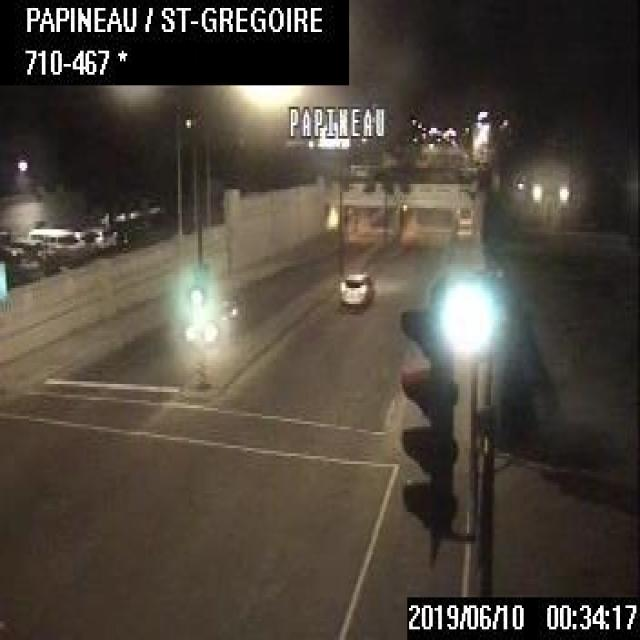vehicle: (182, 294, 240, 342), (25, 224, 86, 263), (338, 270, 369, 302), (86, 223, 115, 250)
